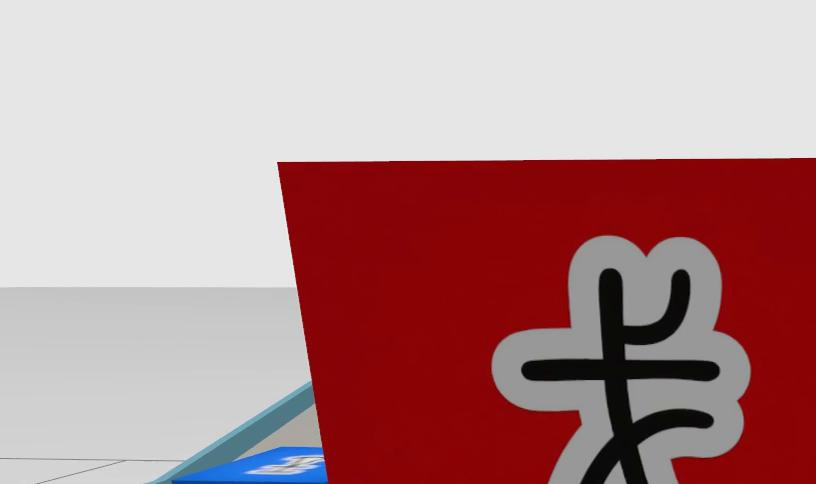KFS_FAKE: (280, 160, 816, 484), (492, 237, 750, 484)
